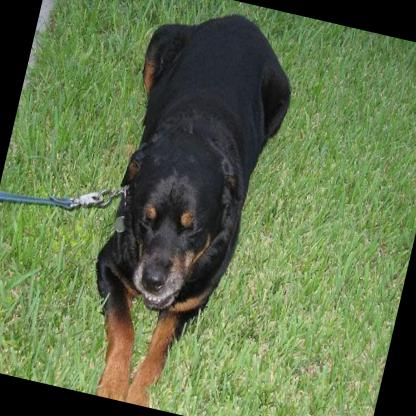Rottweiler: (66, 0, 306, 416)
